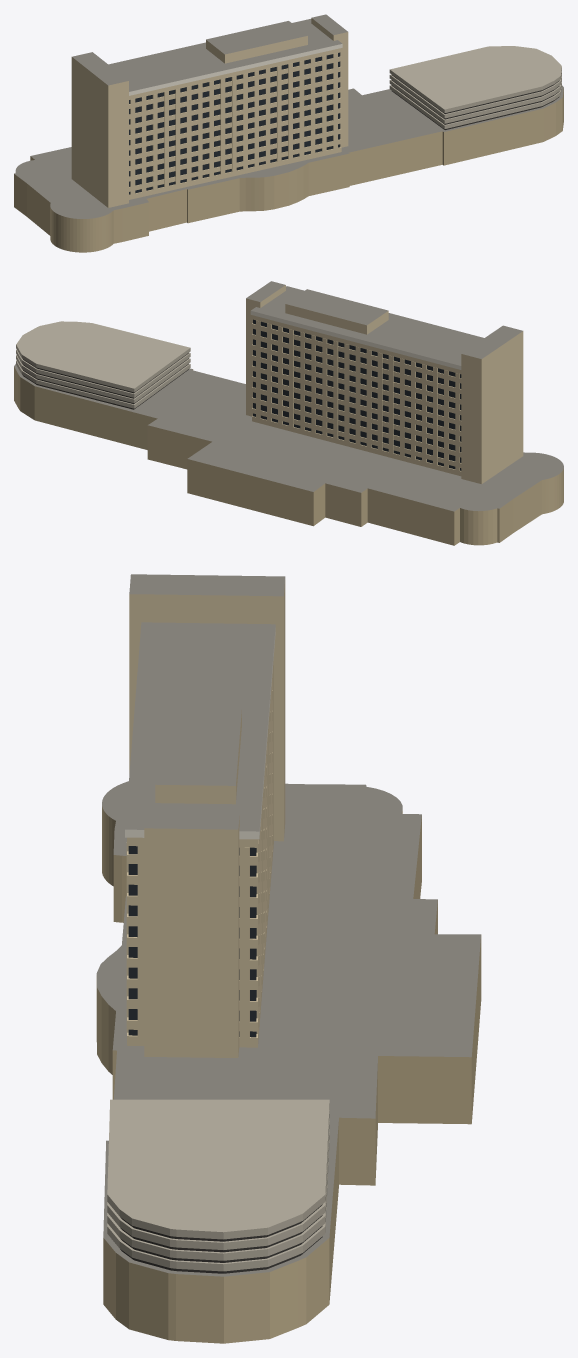
The model's file is vanderpump_w61239326.glb.
3 views of the same model, one above another, from view 1: azimuth 30°, elevation 25°; view 2: azimuth 150°, elevation 25°; view 3: azimuth 270°, elevation 25° (orthographic). The views are drawn at different scales.
Parts seen in each view (by area): view 1: Hotel_w61239326; view 2: Hotel_w61239326; view 3: Hotel_w61239326.
Boxes of the visible parts, x1,y1,x2,y2 form: Hotel_w61239326: (14,14,563,252); Hotel_w61239326: (14,281,563,545); Hotel_w61239326: (96,574,481,1343).
Bounding box in the file's own units: 176 × 51.2 × 57.18.
